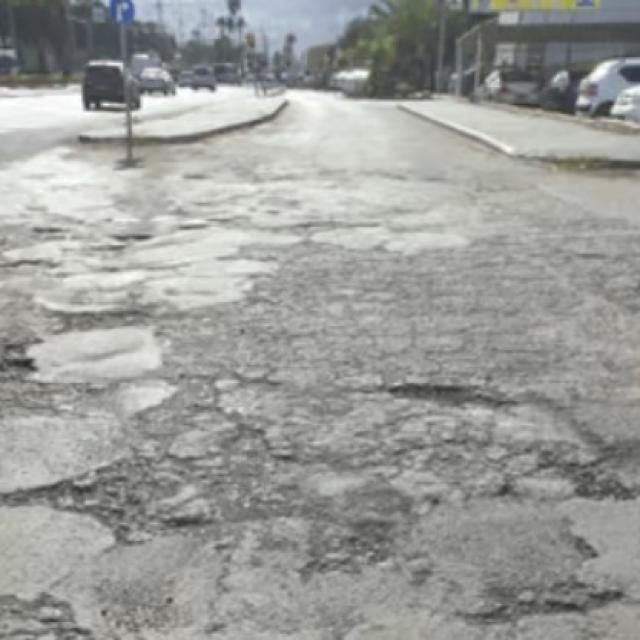medium_pothole: (384, 377, 511, 406), (58, 305, 132, 332), (0, 336, 35, 374), (3, 251, 48, 269), (86, 239, 126, 248), (34, 222, 60, 235), (112, 230, 149, 237)
minor_pothole: (41, 466, 132, 517), (554, 461, 634, 499)
